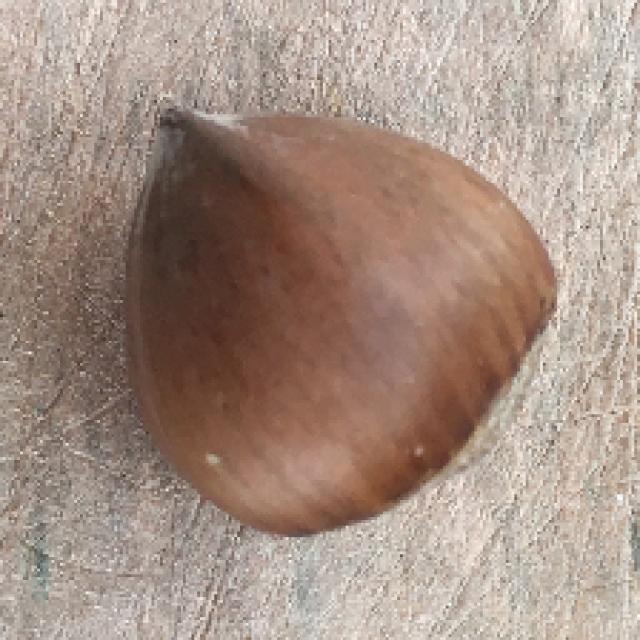qualityHazelnut: (129, 100, 564, 538)
